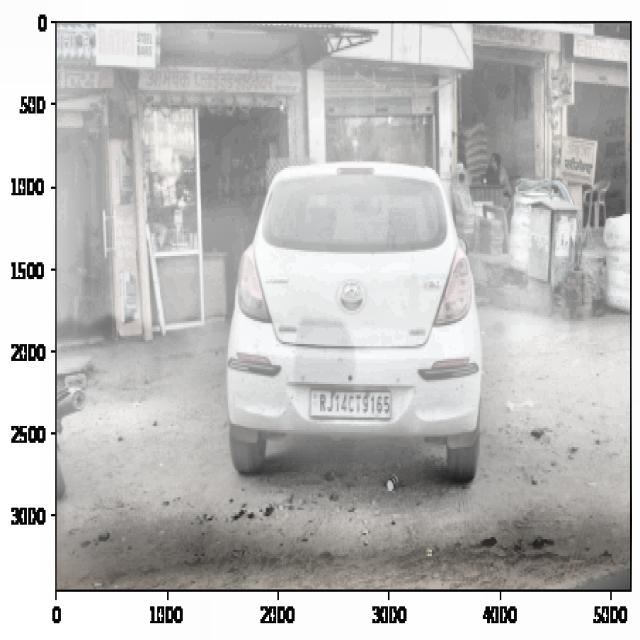license_plate: (314, 388, 396, 421)
